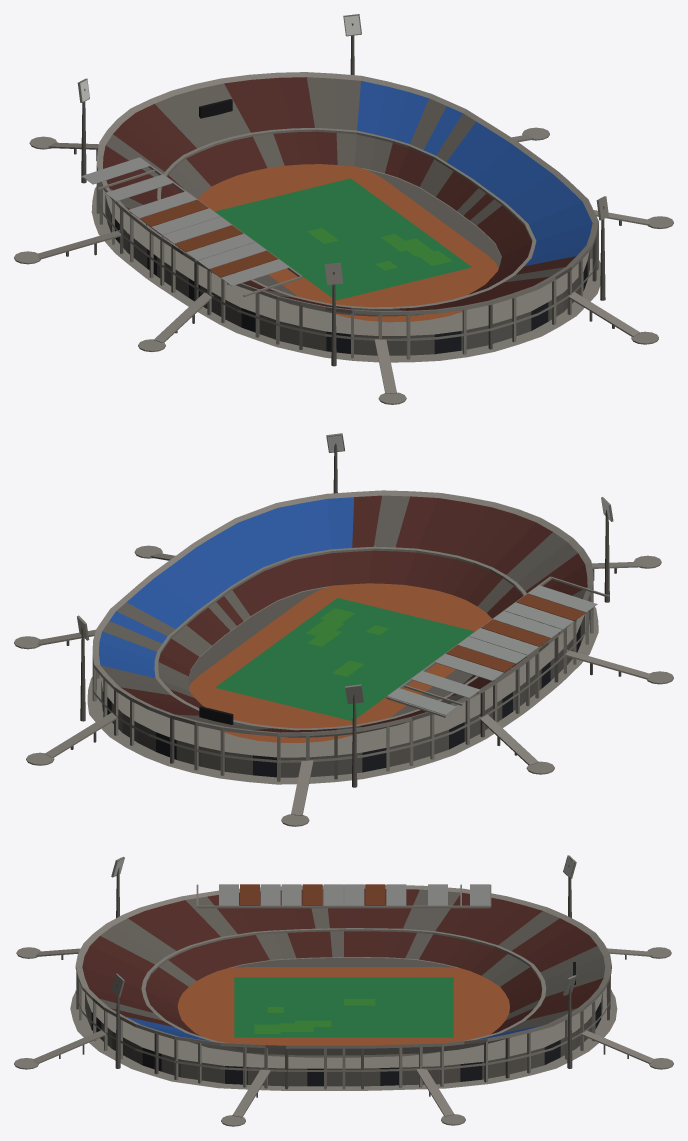
The model's file is landmark_national-stadium.glb.
3 renders of one model, top to bottom at view 1: azimuth 30°, elevation 25°; view 2: azimuth 150°, elevation 25°; view 3: azimuth 270°, elevation 25°, orthographic. The views are drawn at different scales.
Parts seen in each view (by area): view 1: body, ramps; view 2: body, ramps; view 3: body, ramps.
Boxes of the visible parts, left/top/right/bottom form: body: left=77, top=14, right=608, bottom=366; ramps: left=14, top=127, right=673, bottom=404; body: left=77, top=433, right=613, bottom=787; ramps: left=14, top=545, right=673, bottom=826; body: left=70, top=855, right=617, bottom=1090; ramps: left=14, top=947, right=673, bottom=1126.
Size of the model in its own units: 266 by 48.42 by 316.
